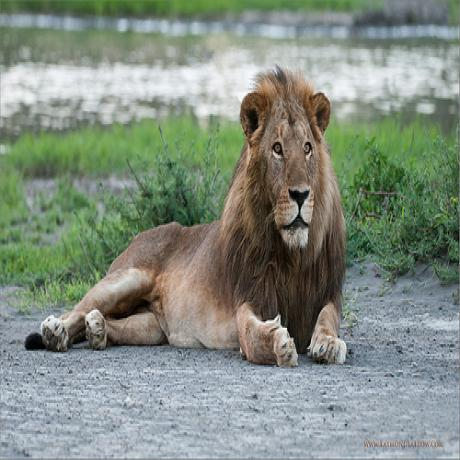Lion: (25, 55, 353, 372)
